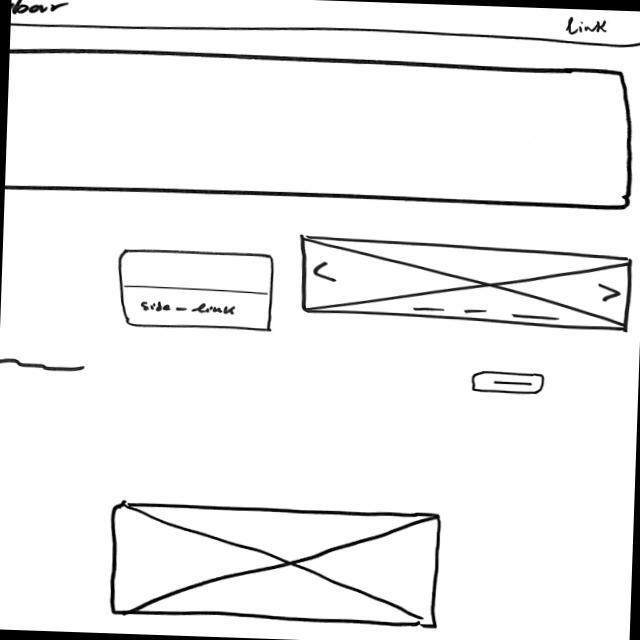container: (5, 48, 640, 212), (115, 247, 277, 334)
icon-button: (471, 369, 547, 398)
image: (106, 499, 445, 631), (298, 234, 634, 332)
label: (140, 302, 239, 318), (11, 1, 68, 17), (565, 18, 611, 37)
text: (1, 353, 86, 373)
